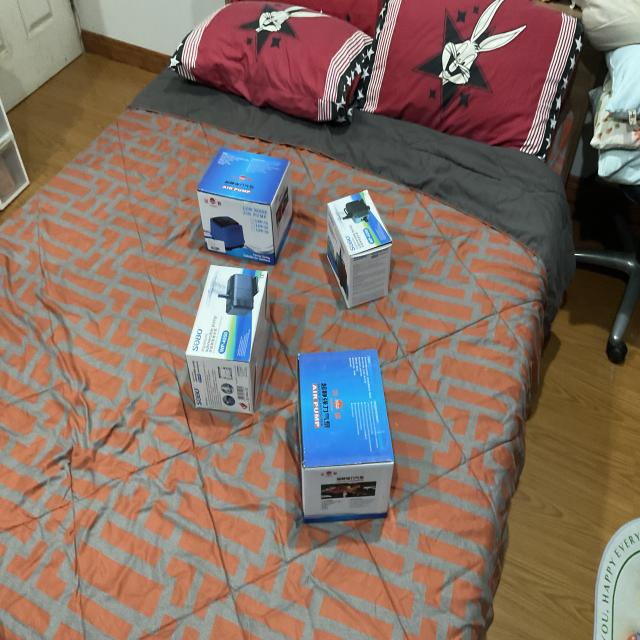SOBO_WP_4200: (176, 255, 276, 413), (317, 179, 405, 313)
YAMANO_LPP_20: (284, 339, 406, 536), (190, 134, 299, 278)
